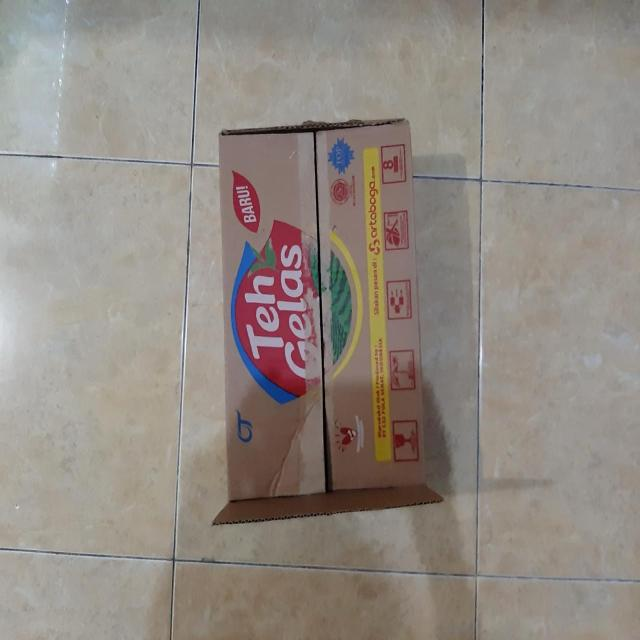Kardus: (215, 116, 440, 514)
